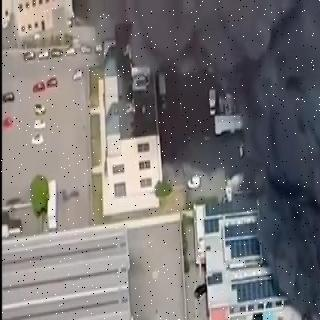smoke: (119, 0, 320, 165)
